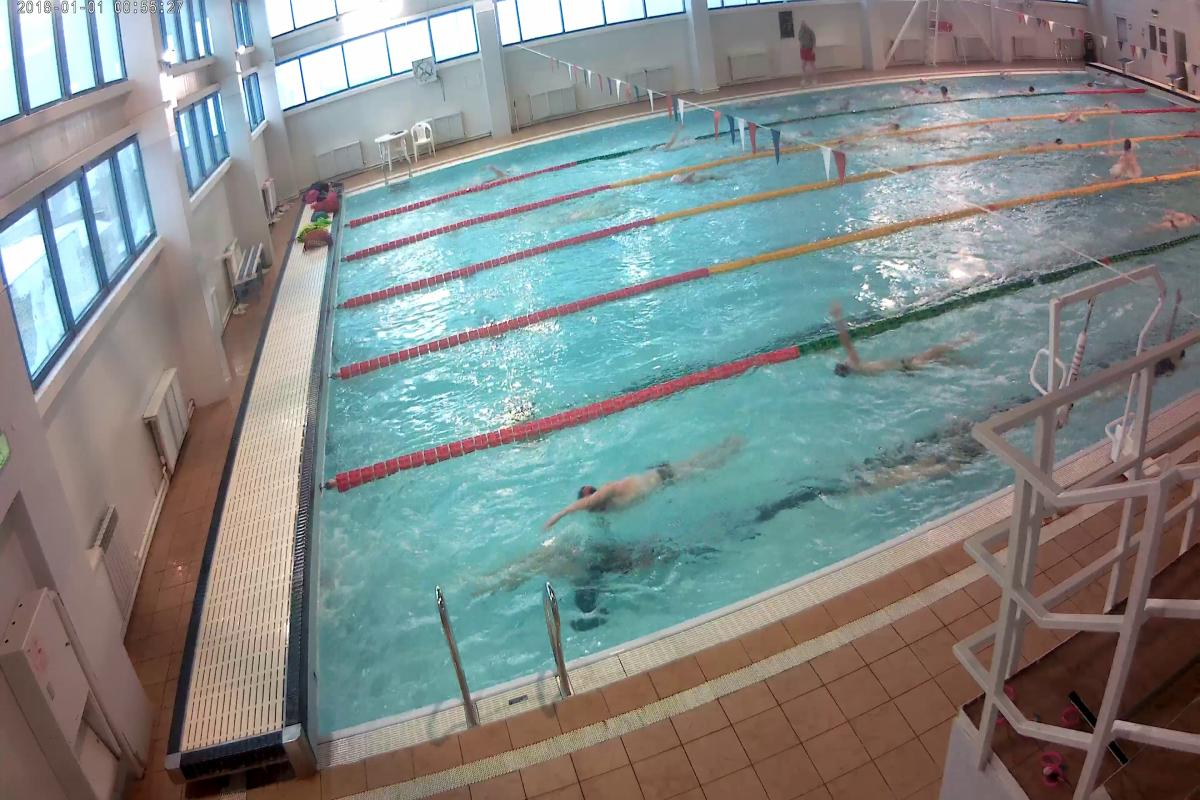swimmer: (560, 425, 764, 529), (827, 322, 986, 390), (876, 426, 964, 507), (522, 533, 701, 572), (1148, 206, 1196, 239), (654, 122, 692, 158), (669, 172, 724, 194), (1108, 160, 1148, 184), (878, 114, 910, 136), (1054, 108, 1084, 130)
